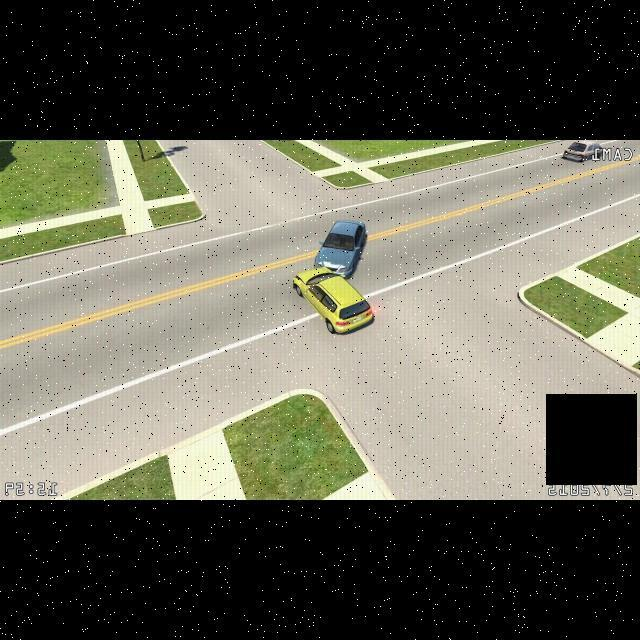moderate: (291, 217, 378, 337)
